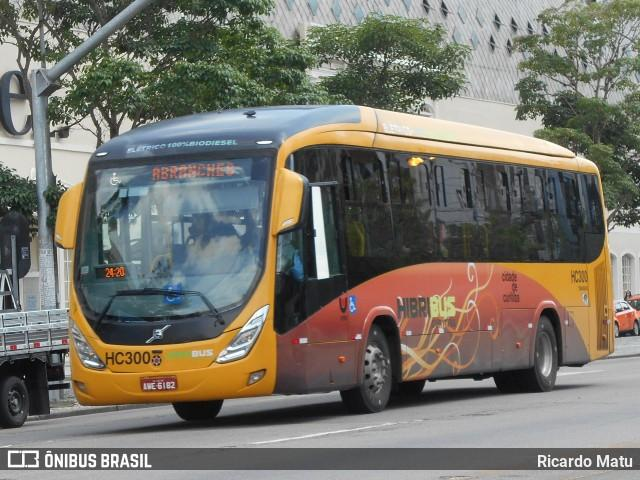ABRANCHES: (145, 158, 239, 187)
